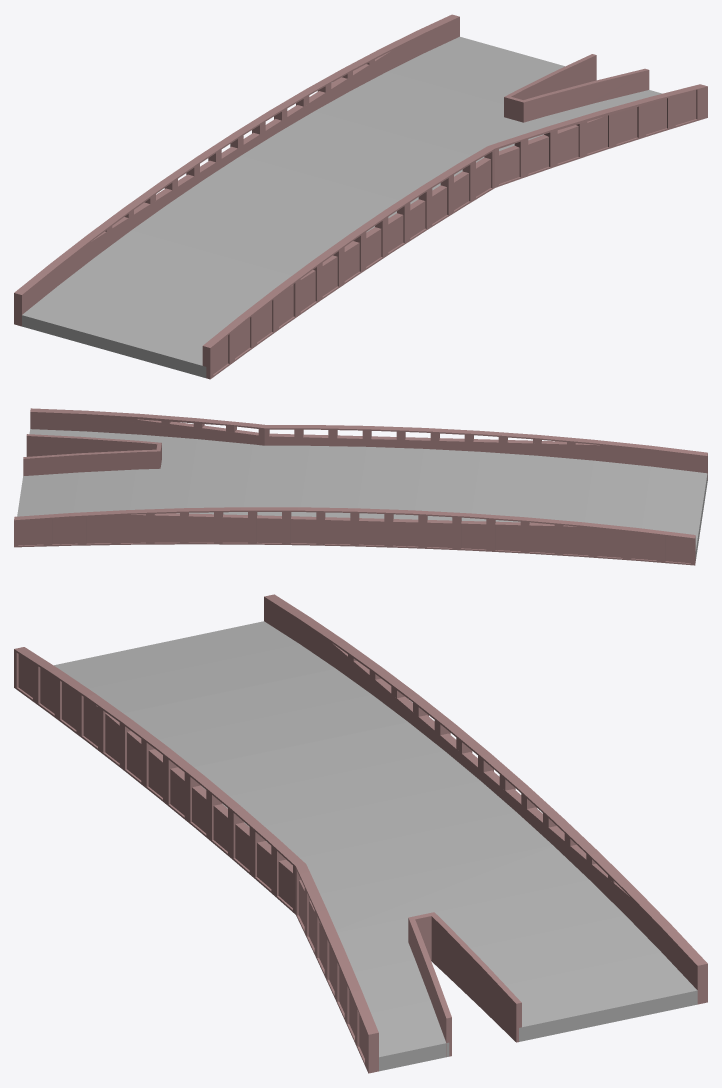
File: kubaai_bruecke.glb
3 views of the same model, one above another, from view 1: azimuth 30°, elevation 25°; view 2: azimuth 150°, elevation 25°; view 3: azimuth 270°, elevation 25° (orthographic). The views are drawn at different scales.
Visible parts, largest first — view 1: world; view 2: world; view 3: world.
Part boxes in pixels (bbox=[...]): world: bbox=[14, 14, 707, 379]; world: bbox=[14, 408, 707, 565]; world: bbox=[14, 594, 707, 1073].
Bounding box in the file's own units: 50.22 × 3.4 × 33.44.
